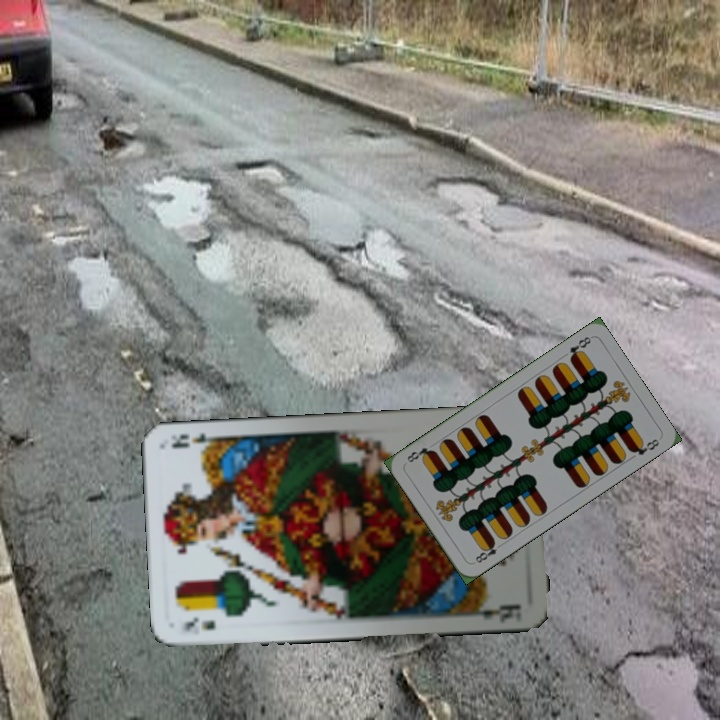E8: (469, 537, 506, 566), (566, 332, 594, 363)
EK: (179, 613, 219, 633)
